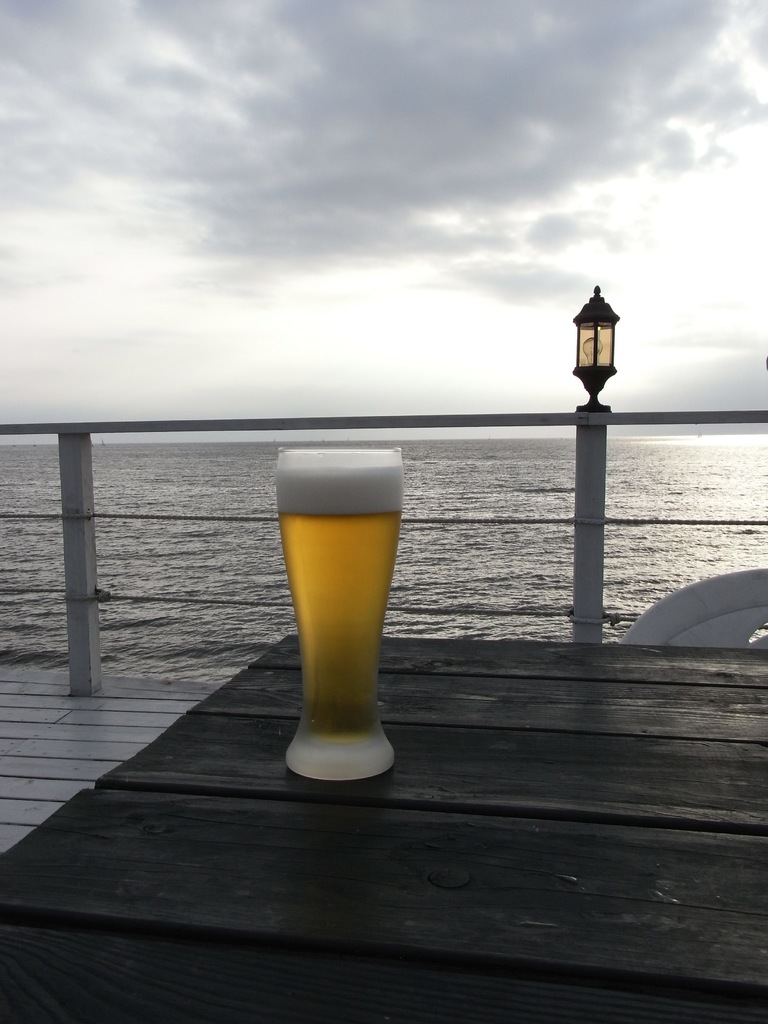Beer: (273, 449, 403, 737)
